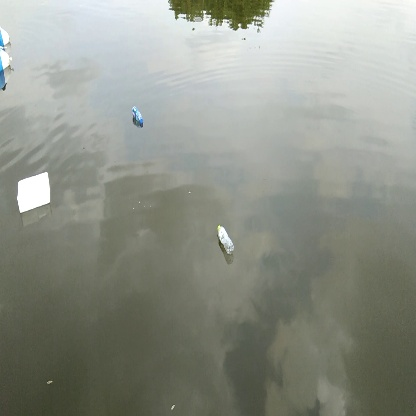bottle: (215, 222, 240, 257), (128, 98, 148, 128)
plastic-garbage: (14, 171, 54, 214)
